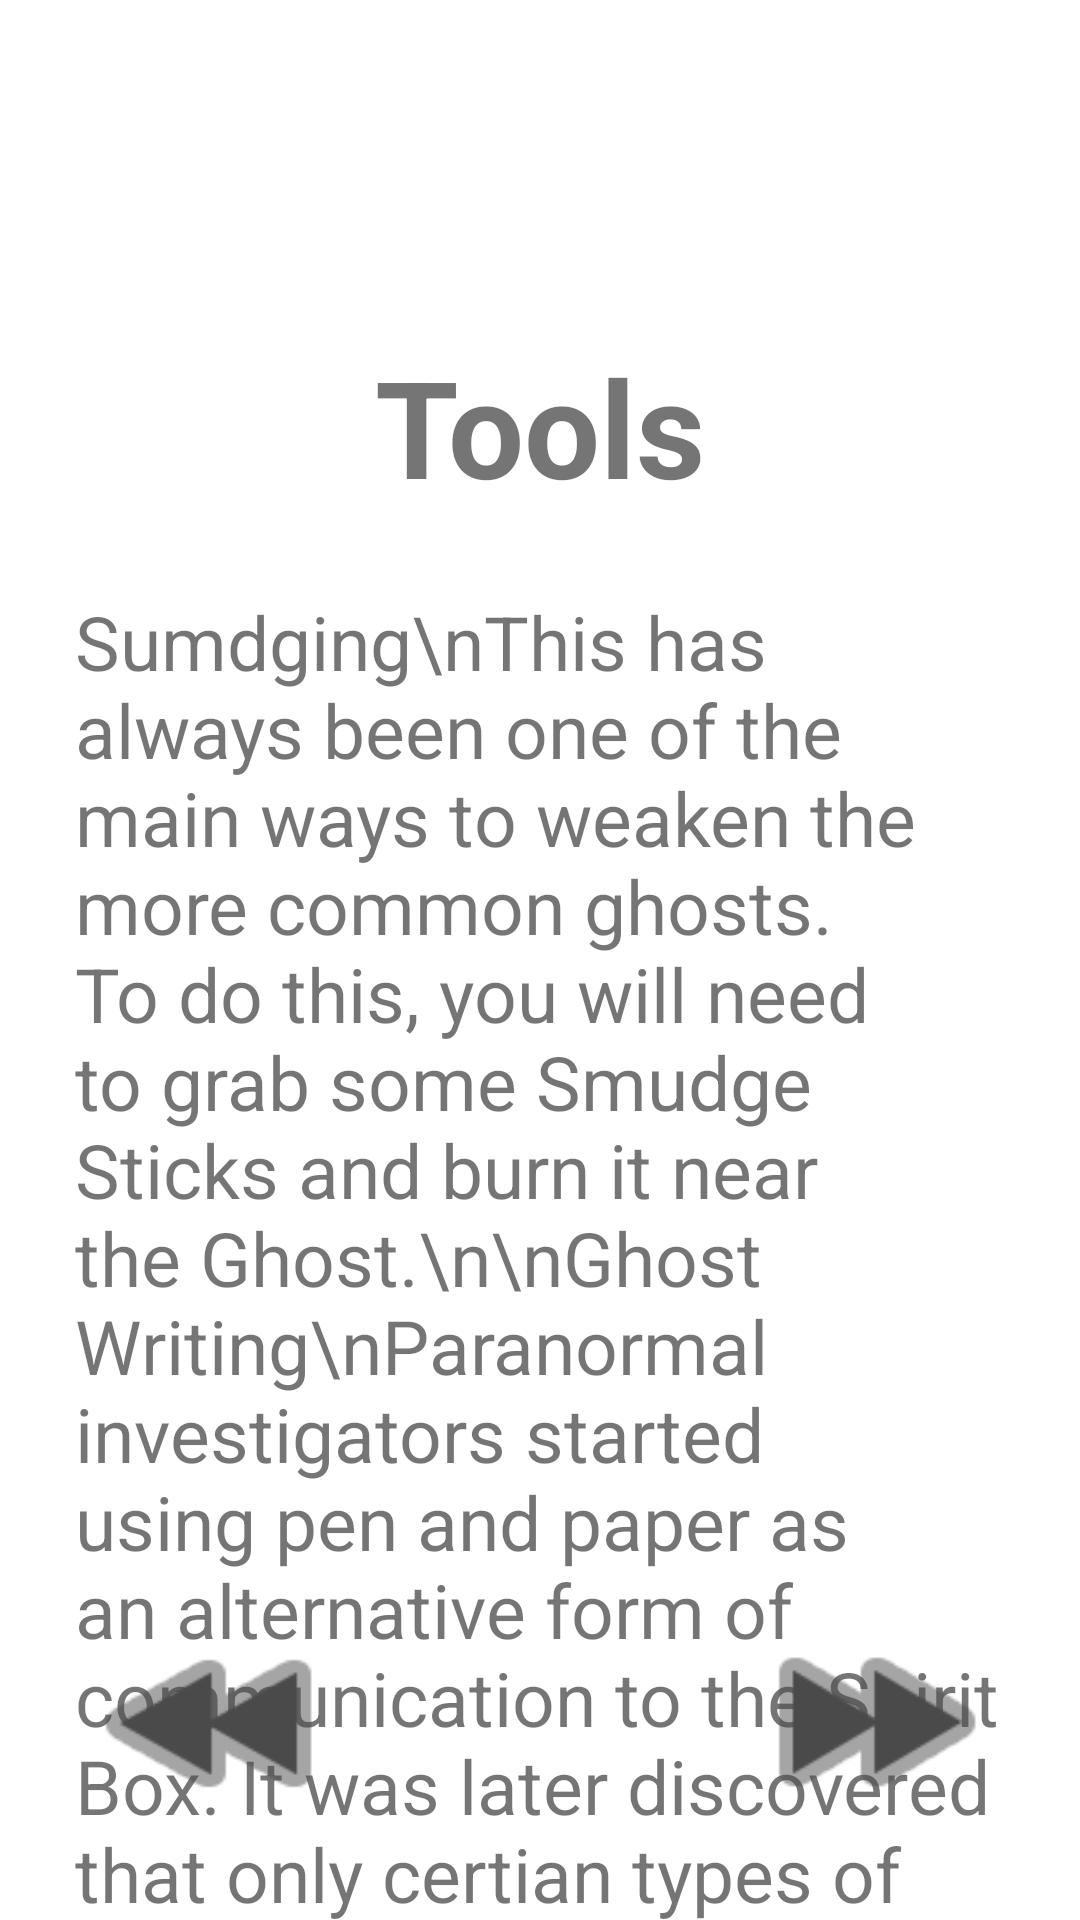

Named icons in this screenshot (1080w x 1920h) and their centers, (x=x, y=y):
rew: (x=213, y=1709)
